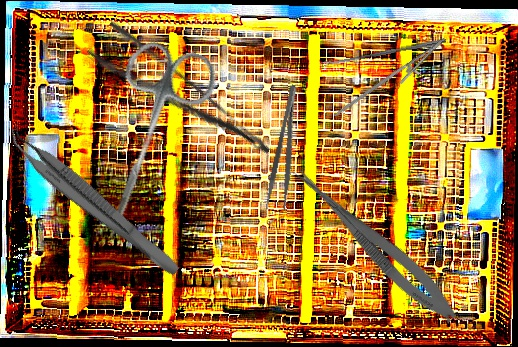Dressing Forceps: (84, 17, 274, 183), (263, 83, 310, 213)
Iris Scissors: (71, 33, 224, 255)
Micro Scissor: (281, 160, 465, 329)
Needle Holder: (333, 25, 452, 137)
Surgical Spoon: (319, 37, 447, 68)
Tissue Forceps: (0, 122, 189, 279)
